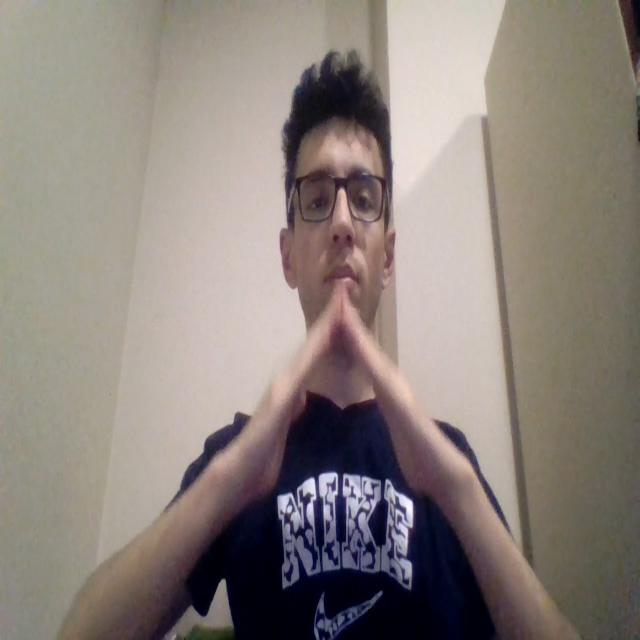house: (232, 283, 450, 501)
